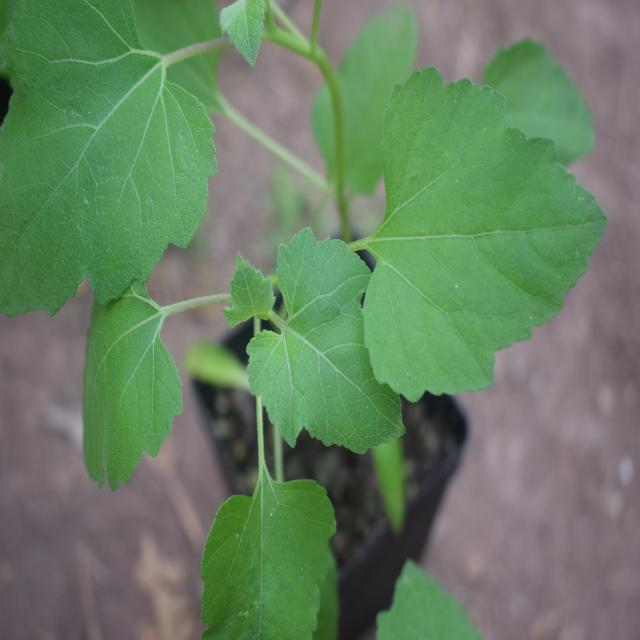cocklebur: (13, 19, 565, 446)
